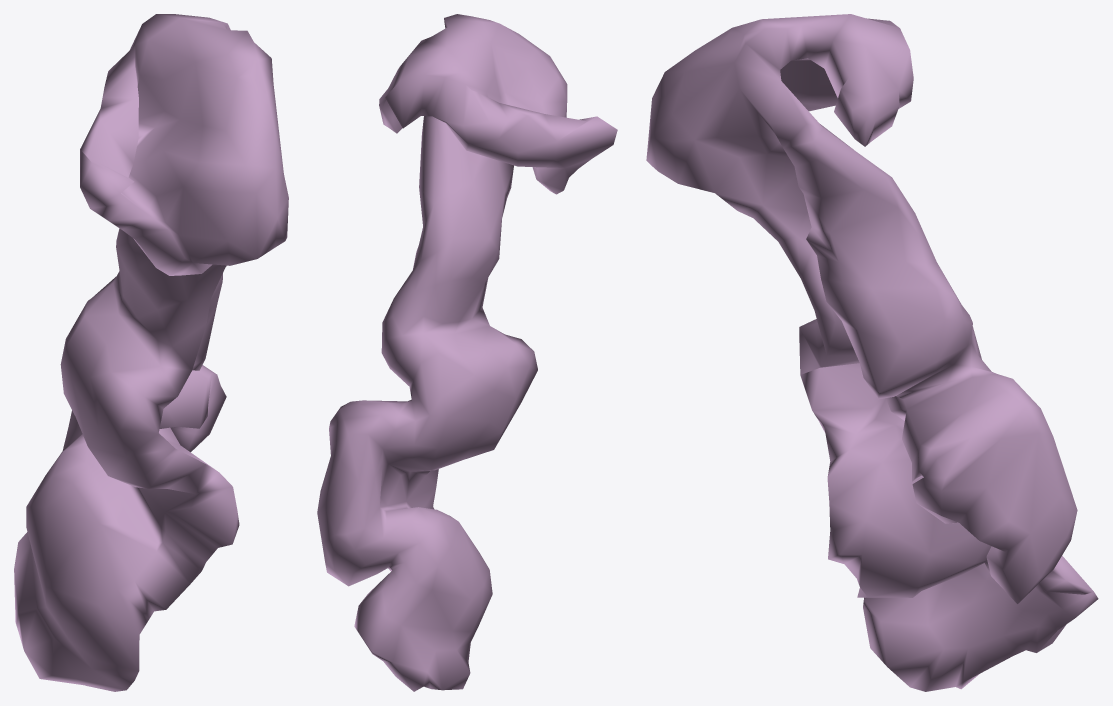
3 renders of one model, left to right at view 1: azimuth 30°, elevation 25°; view 2: azimuth 150°, elevation 25°; view 3: azimuth 270°, elevation 25°, orthographic. The views are drawn at different scales.
Parts seen in each view (by area): view 1: 左侧额上沟; view 2: 左侧额上沟; view 3: 左侧额上沟.
Boxes of the visible parts, x1,y1,x2,y2 form: 左侧额上沟: [14, 14, 288, 691]; 左侧额上沟: [317, 14, 617, 691]; 左侧额上沟: [646, 14, 1098, 691].
Bounding box in the file's own units: 0.0359 × 0.0992 × 0.0583.
